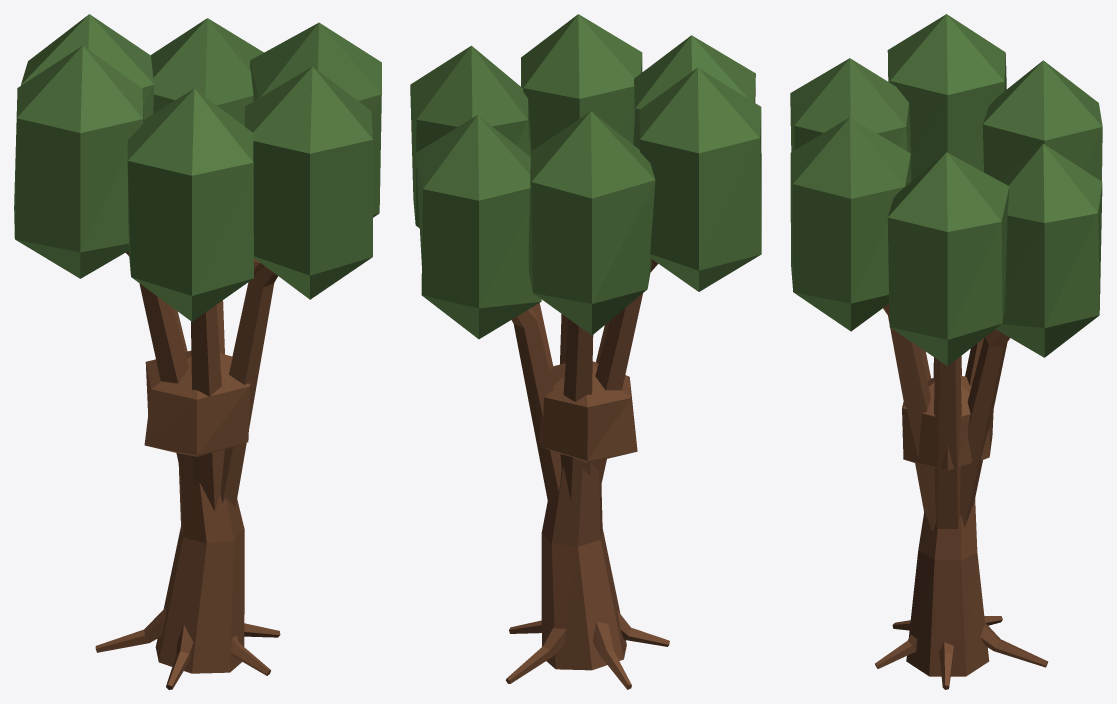
File: Plant_Common_PollardedTree_001_LOD1.glb
3 views of the same model, side by side, from view 1: azimuth 30°, elevation 25°; view 2: azimuth 150°, elevation 25°; view 3: azimuth 270°, elevation 25° (orthographic). The views are drawn at different scales.
Parts seen in each view (by area): view 1: Plant_Common_PollardedTree_001_LOD1; view 2: Plant_Common_PollardedTree_001_LOD1; view 3: Plant_Common_PollardedTree_001_LOD1.
Part boxes in pixels (x1,y1,x2,y2): Plant_Common_PollardedTree_001_LOD1: (14,14,381,689); Plant_Common_PollardedTree_001_LOD1: (410,14,761,689); Plant_Common_PollardedTree_001_LOD1: (790,14,1102,689).
Bounding box in the file's own units: 2.8 × 4.69 × 2.24.
